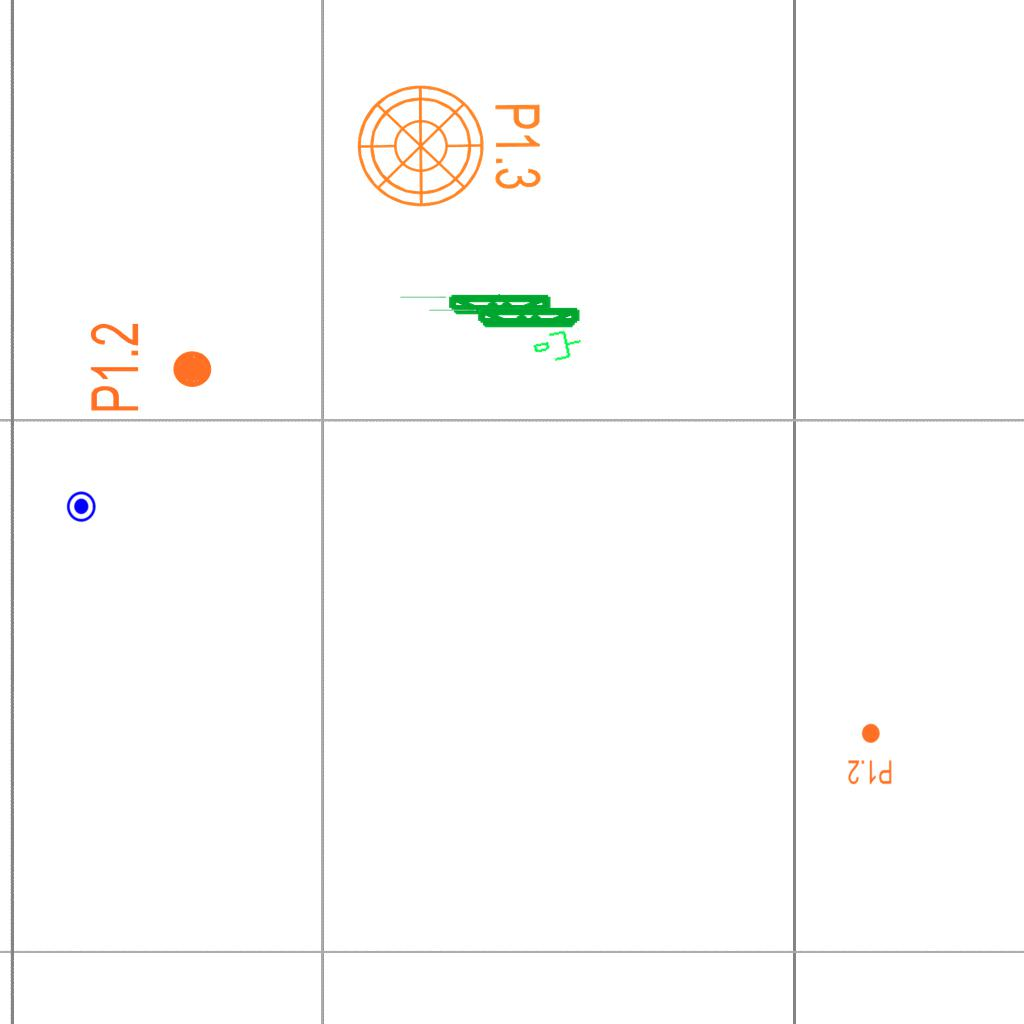Aufbaurundleuchte_LED_Treppenhaus: (354, 82, 559, 221)
Datenanschluss_einfach: (530, 325, 586, 369)
Downlight_LED_Einbauleuchten_Flur: (87, 321, 215, 414), (847, 722, 893, 786)
Sicherheitsleuchte_Wandeinbau: (395, 293, 554, 318), (424, 306, 583, 331)
Taster: (66, 490, 99, 523)
